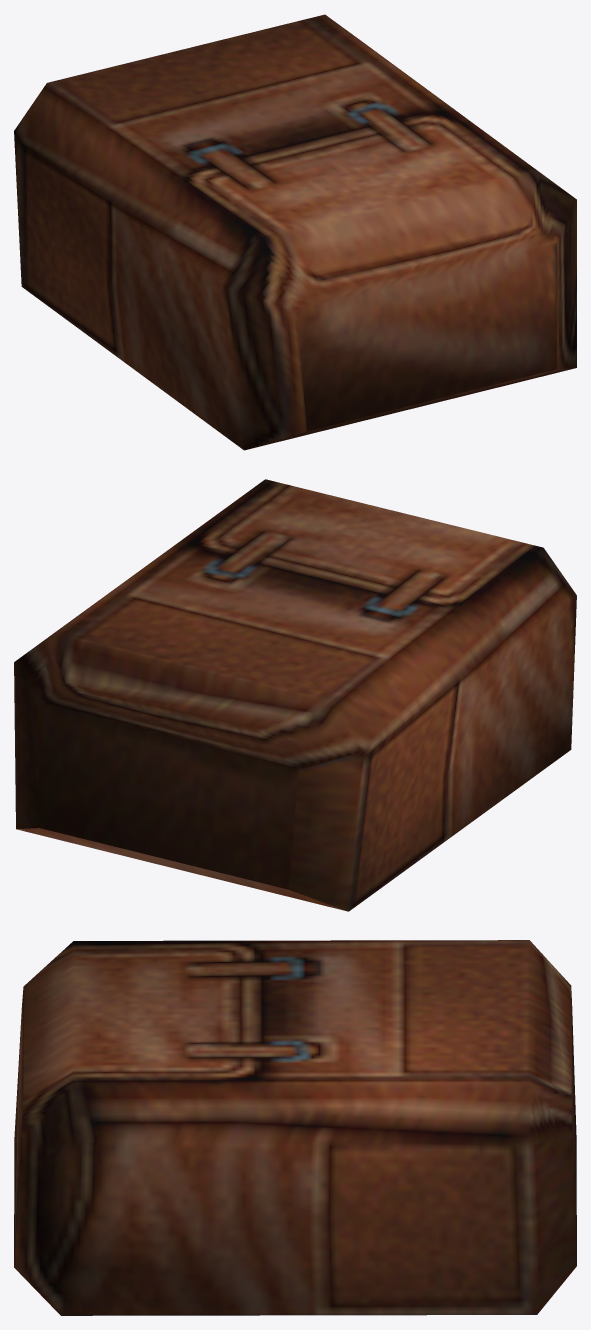
File: c4-drop.glb
3 views of the same model, one above another, from view 1: azimuth 30°, elevation 25°; view 2: azimuth 150°, elevation 25°; view 3: azimuth 270°, elevation 25° (orthographic). The views are drawn at different scales.
Visible parts, largest first — view 1: backpack dropped; view 2: backpack dropped; view 3: backpack dropped.
Part boxes in pixels (<box>): backpack dropped: <box>14,14,576,450</box>; backpack dropped: <box>14,479,576,911</box>; backpack dropped: <box>14,940,576,1315</box>.
Bounding box in the file's own units: 0.261 × 0.1451 × 0.3425.
Materials: 1 (1 with a texture image).
